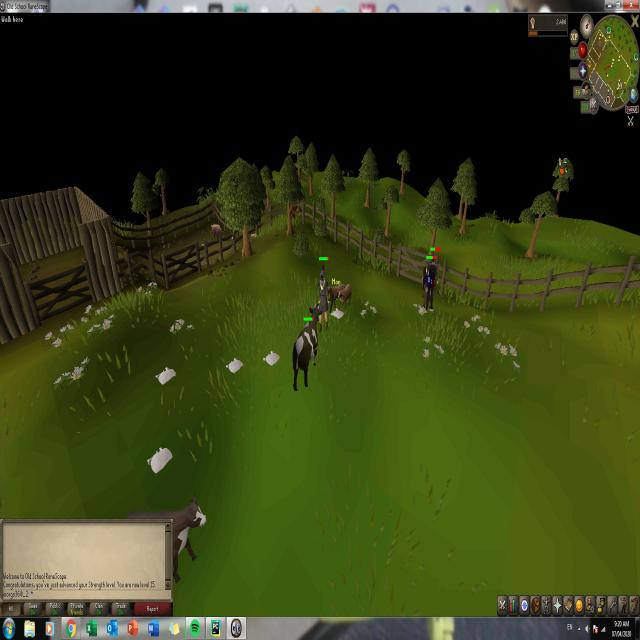cow: (173, 494, 206, 584), (292, 301, 322, 394), (338, 283, 353, 310), (329, 280, 338, 315)
player: (319, 269, 328, 332)
